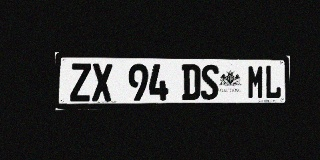4: (149, 64, 168, 101)
9: (129, 64, 148, 101)
D: (182, 64, 200, 100)
L: (265, 65, 281, 99)
M: (247, 65, 264, 99)
S: (201, 64, 219, 100)
X: (92, 63, 113, 101)
Z: (70, 63, 91, 102)
